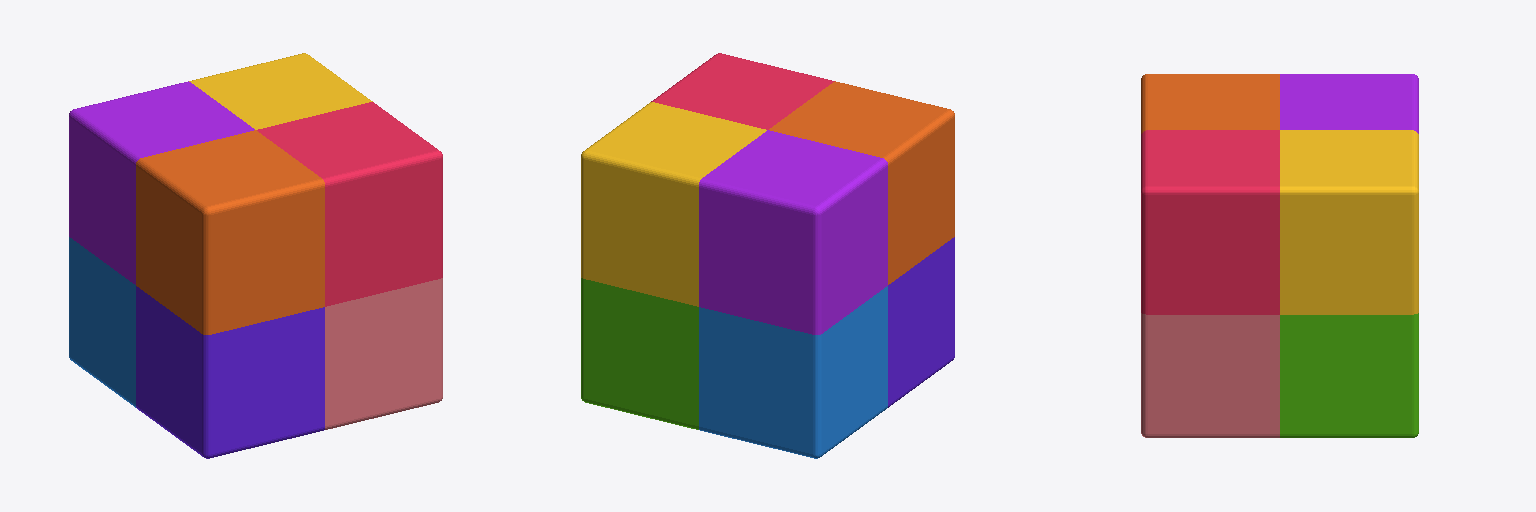
The model's file is colorCube.obj.
The picture shows the model from 3 angles: view 1: azimuth 30°, elevation 25°; view 2: azimuth 150°, elevation 25°; view 3: azimuth 270°, elevation 25°; orthographic projection.
Parts seen in each view (by area): view 1: Mesh1 Model; view 2: Mesh1 Model; view 3: Mesh1 Model.
Boxes of the visible parts, x1,y1,x2,y2 form: Mesh1 Model: [69, 53, 442, 458]; Mesh1 Model: [581, 53, 954, 458]; Mesh1 Model: [1141, 74, 1418, 437].
Bounding box in the file's own units: 20 × 20 × 20.